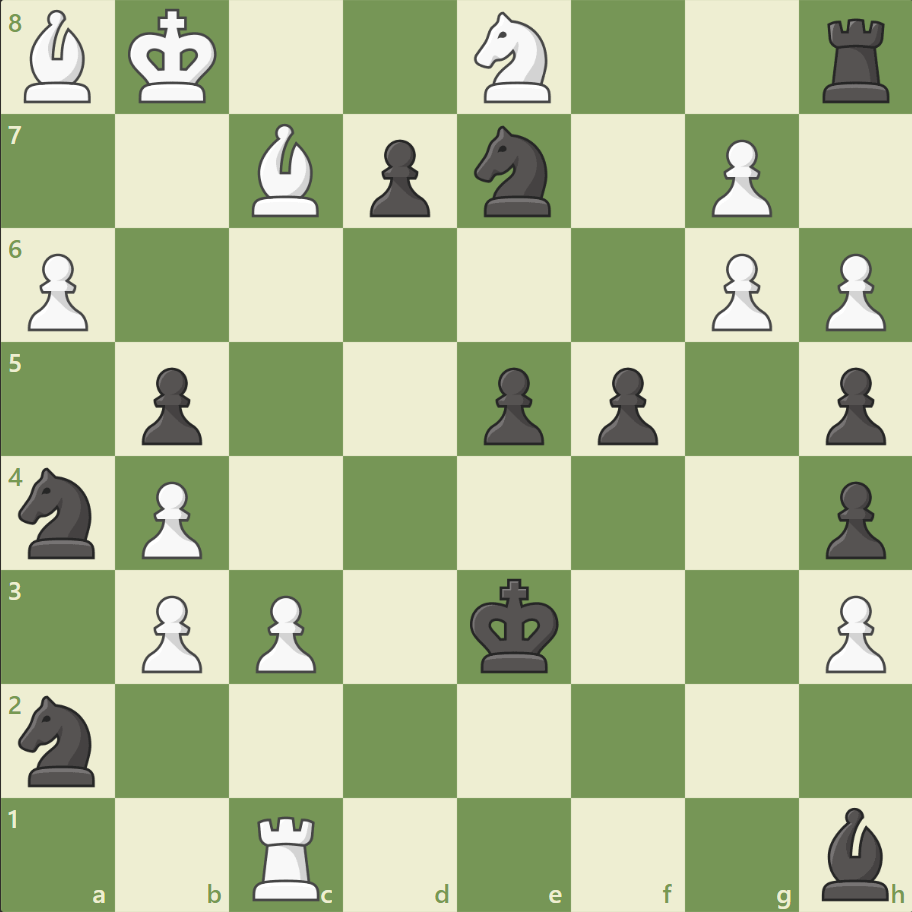B: (17, 6, 101, 109), (244, 120, 328, 222)
K: (124, 4, 224, 112)
N: (465, 7, 562, 110)
P: (701, 132, 776, 223), (20, 246, 95, 337), (701, 246, 776, 337), (133, 473, 208, 564), (133, 586, 208, 677), (247, 586, 322, 677), (815, 246, 889, 337), (815, 586, 889, 677)
R: (246, 806, 329, 904)
b: (812, 801, 896, 904)
k: (465, 571, 565, 679)
n: (11, 461, 108, 564), (11, 688, 108, 791), (465, 121, 562, 223)
p: (133, 359, 208, 450), (474, 359, 549, 450), (361, 132, 435, 223), (588, 359, 662, 450), (815, 359, 889, 450), (815, 473, 889, 564)
r: (814, 12, 897, 109)
